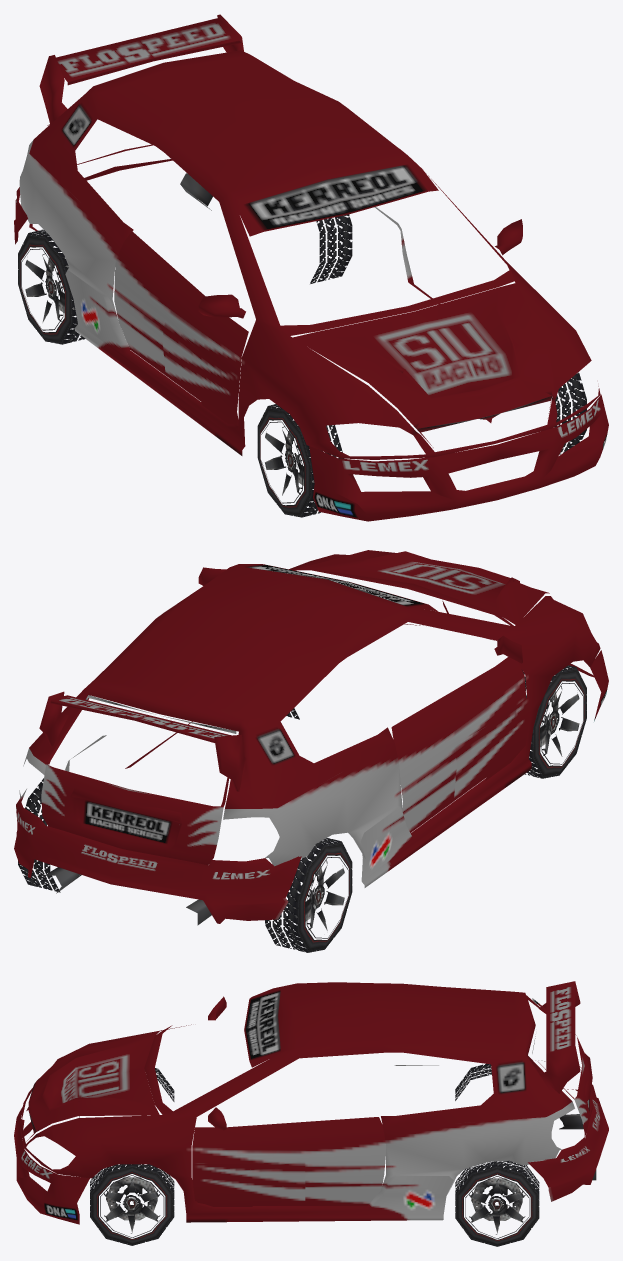
File: car-COMP_Car6.glb
3 renders of one model, top to bottom at view 1: azimuth 30°, elevation 25°; view 2: azimuth 150°, elevation 25°; view 3: azimuth 270°, elevation 25°, orthographic. The views are drawn at different scales.
Parts seen in each view (by area): view 1: COMP_Car6; view 2: COMP_Car6; view 3: COMP_Car6.
Boxes of the visible parts, left/top/right/bottom form: COMP_Car6: left=14, top=14, right=608, bottom=521; COMP_Car6: left=14, top=550, right=608, bottom=952; COMP_Car6: left=14, top=981, right=608, bottom=1246.
Size of the model in its own units: 2.01 by 1.43 by 4.15.
Materials: 19 (19 with a texture image).
